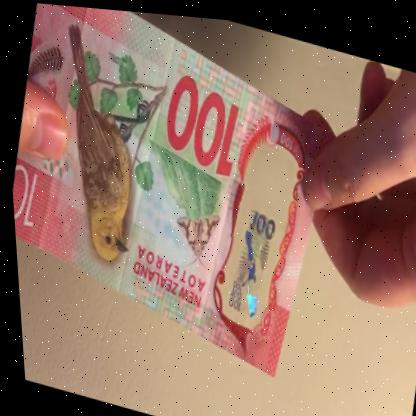100B: (213, 169, 285, 323)
